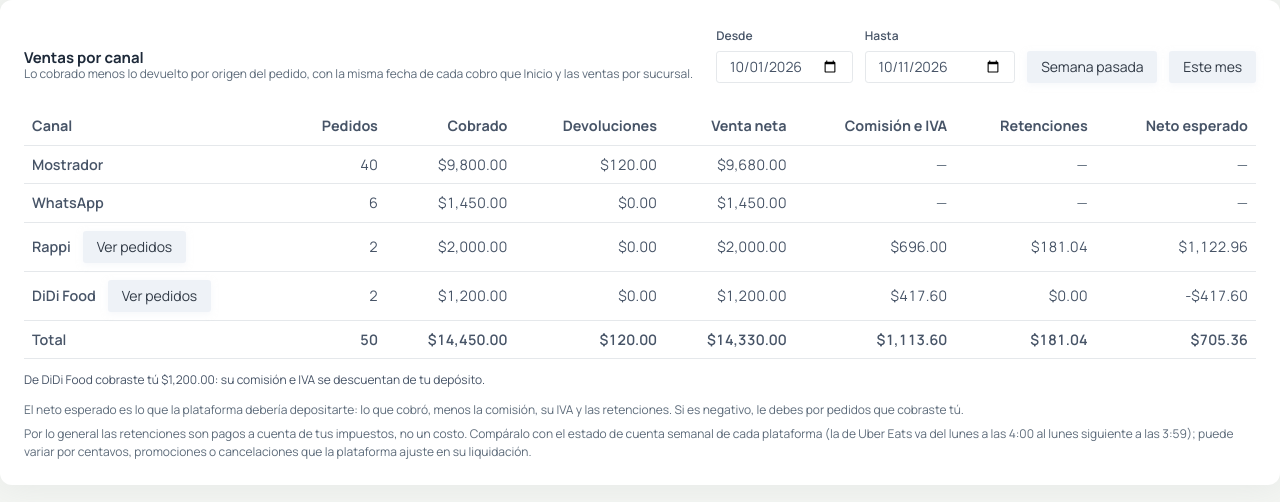
SalesByChannelCard › takes last week from Monday to Sunday in the business days, and goes back to the month
The width and height of the screenshot is (1280, 502).
Expected: the table is shown, x1=24 y1=107 x2=1256 y2=359
Click the button "Semana pasada". click: (1092,67)
box: x1=1027 y1=51 x2=1157 y2=83
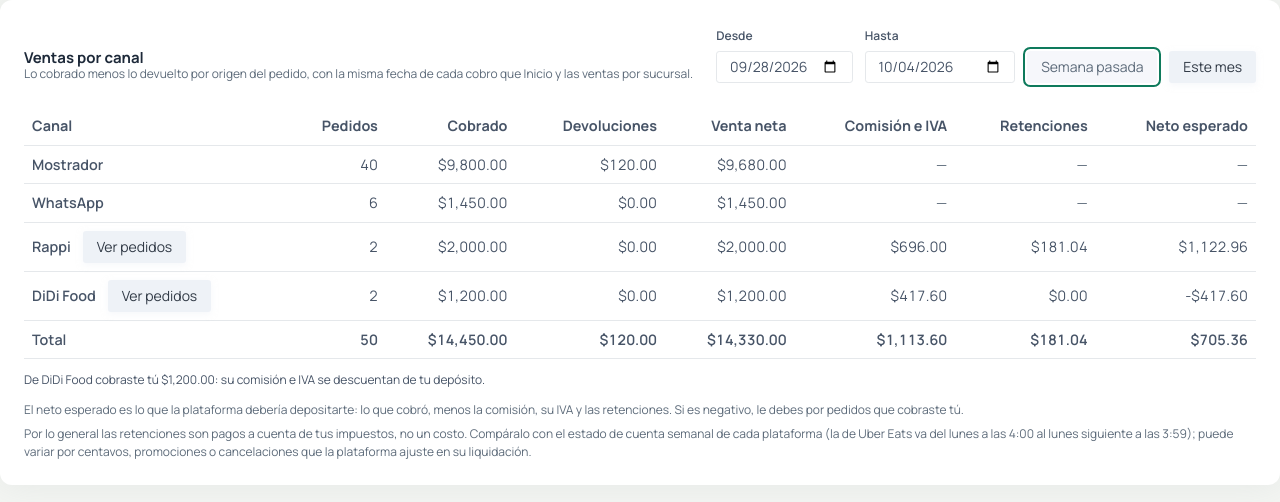
Expected: the date field labelled "Desde" holds "2026-09-28", x1=716 y1=51 x2=853 y2=83
Expected: the date field labelled "Hasta" holds "2026-10-04", x1=865 y1=51 x2=1015 y2=83
Click the button "Este mes". click: (1213,67)
box: x1=1169 y1=51 x2=1256 y2=83
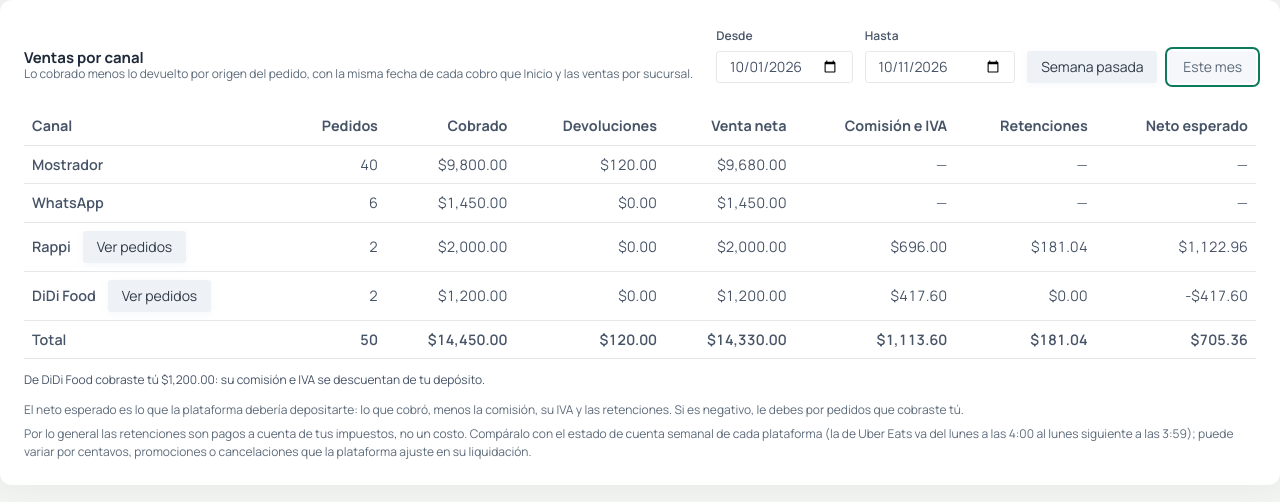
Expected: the date field labelled "Desde" holds "2026-10-01", x1=716 y1=51 x2=853 y2=83
Expected: the date field labelled "Hasta" holds "2026-10-11", x1=865 y1=51 x2=1015 y2=83
